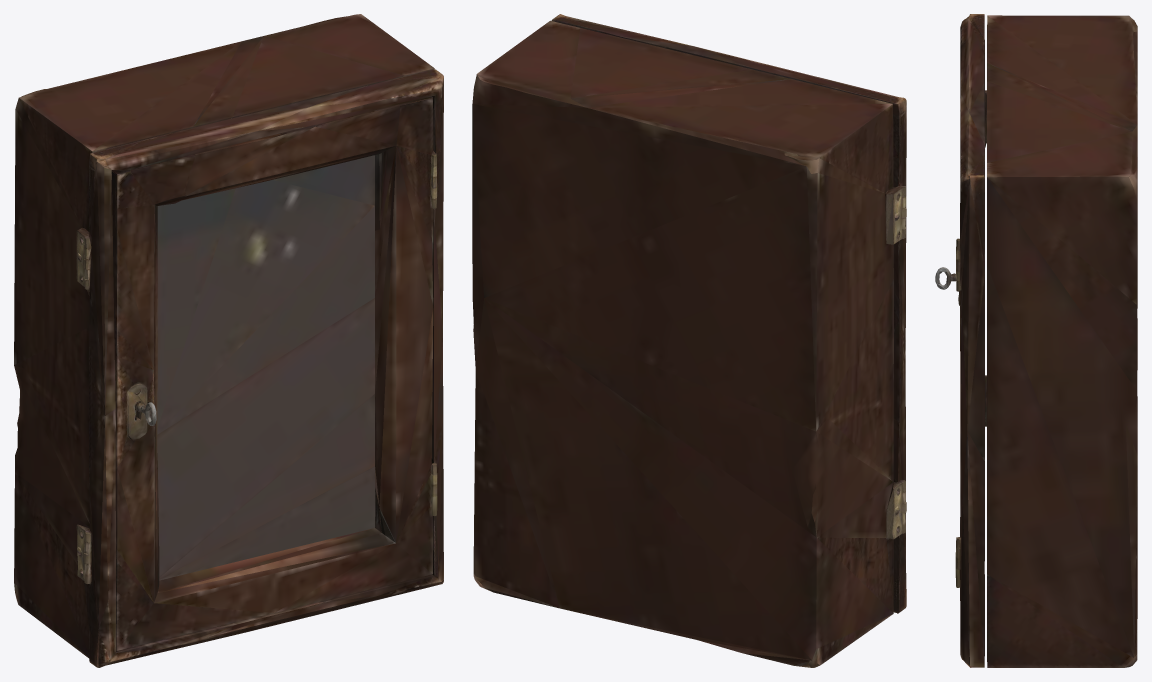
File: cabinet.glb
3 views of the same model, side by side, from view 1: azimuth 30°, elevation 25°; view 2: azimuth 150°, elevation 25°; view 3: azimuth 270°, elevation 25° (orthographic). The views are drawn at different scales.
Visible parts, largest first — view 1: Mesh_0; view 2: Mesh_0; view 3: Mesh_0.
Part boxes in pixels (x1,y1,x2,y2): Mesh_0: (14,14,443,667); Mesh_0: (472,14,906,667); Mesh_0: (935,14,1137,667).
Bounding box in the file's own units: 1.38 × 1.9 × 0.7086.
Materials: 1 (1 with a texture image).
